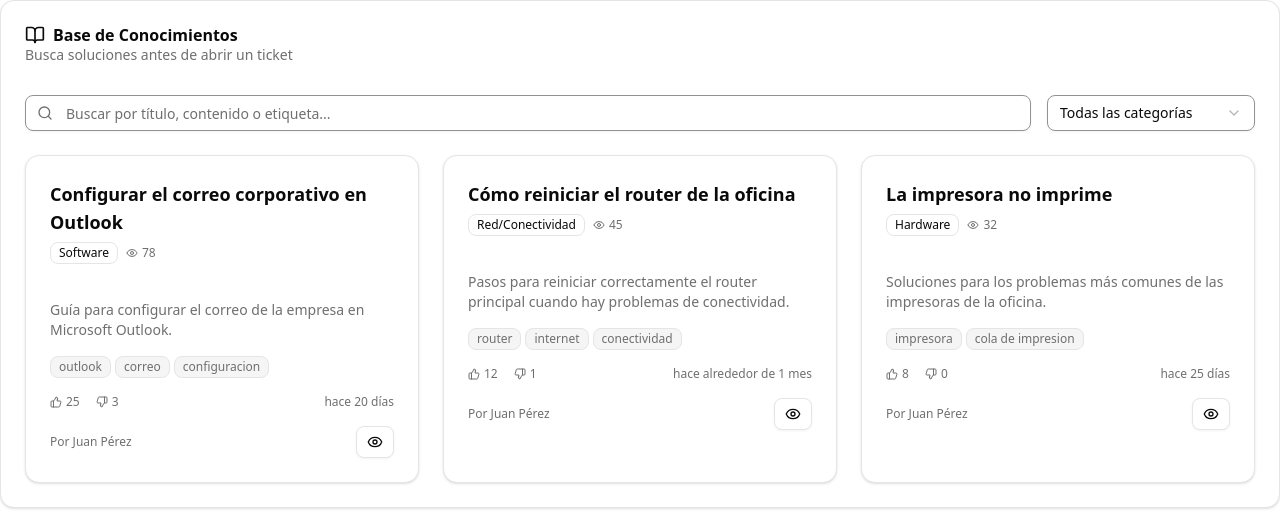
Test: ArticleList › searches by tag
The width and height of the screenshot is (1280, 526).
Expected: the text "Cómo reiniciar el router de la oficina" is shown, [468,180,796,208]
Type "outlook" into the field named "Buscar artículos". click: (528, 113)
box: [25,95,1031,131]
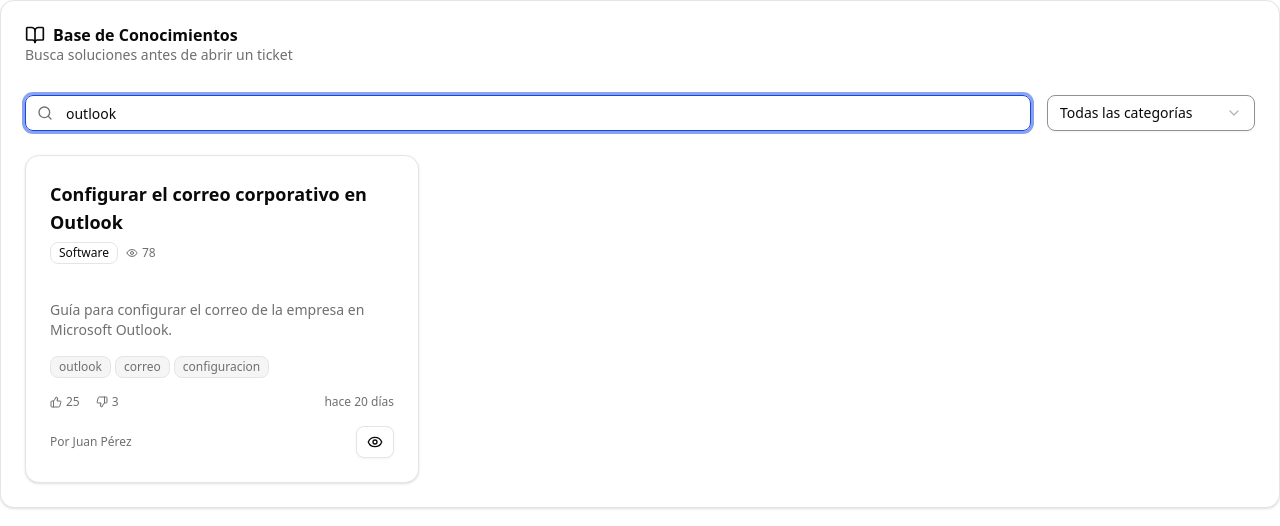
Expected: the text "Configurar el correo corporativo en Outlook" is shown, [50,180,394,236]
Result: the text "Cómo reiniciar el router de la oficina" is gone
